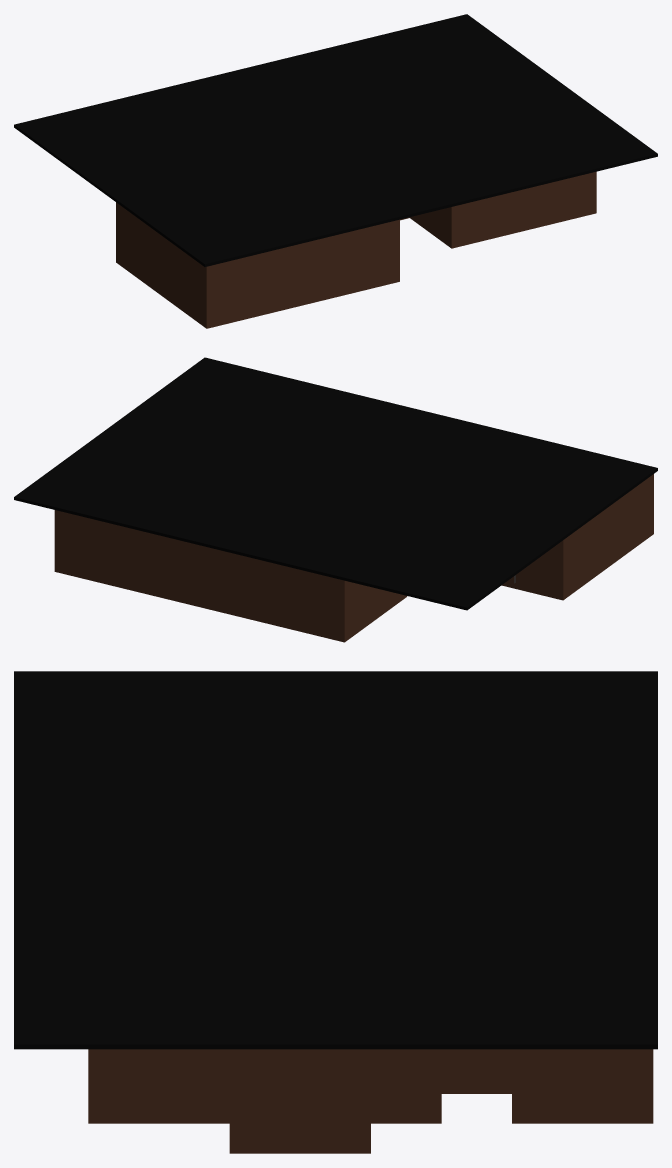
Rendered from gameLVL.fbx.
The picture shows the model from 3 angles, top to bottom: view 1: azimuth 30°, elevation 25°; view 2: azimuth 150°, elevation 25°; view 3: azimuth 270°, elevation 25°; orthographic projection. The views are drawn at different scales.
Parts seen in each view (by area): view 1: Cube.028, Cube; view 2: Cube.028, Cube; view 3: Cube.028, Cube.
Boxes of the visible parts, x1,y1,x2,y2 form: Cube.028: [14, 14, 657, 266]; Cube: [116, 171, 596, 328]; Cube.028: [14, 357, 657, 610]; Cube: [54, 474, 653, 642]; Cube.028: [14, 671, 657, 1049]; Cube: [88, 1049, 653, 1153].
Bounding box in the file's own units: 3750 × 586 × 2736.
